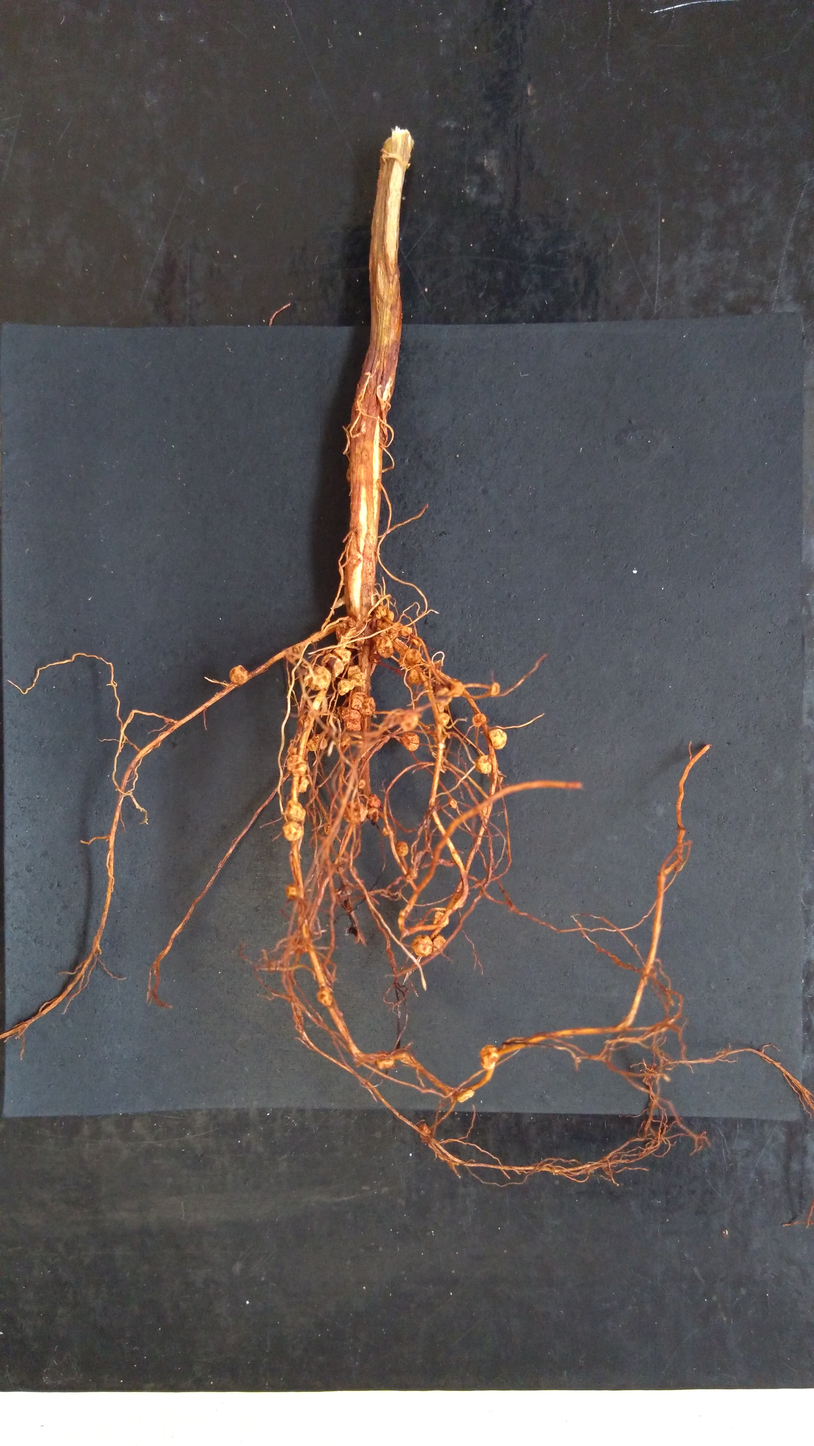nodule: (304, 662, 332, 693), (334, 622, 367, 647), (334, 705, 362, 733), (319, 652, 345, 678), (478, 1042, 499, 1072), (342, 800, 368, 824), (228, 663, 251, 687), (285, 754, 309, 777), (410, 934, 433, 958), (284, 797, 306, 822), (281, 821, 306, 843), (375, 634, 395, 661), (488, 727, 508, 752), (473, 754, 493, 777), (433, 685, 454, 706), (315, 986, 336, 1007), (401, 730, 421, 752), (304, 735, 329, 752), (333, 646, 352, 666), (358, 696, 376, 716), (401, 712, 419, 731), (350, 691, 368, 710), (432, 933, 449, 953), (432, 910, 450, 928), (284, 881, 301, 900), (456, 1088, 476, 1104), (336, 678, 352, 697), (450, 680, 466, 699), (375, 1057, 395, 1071), (471, 712, 488, 728), (405, 648, 422, 664), (396, 840, 410, 859), (350, 672, 366, 688), (367, 793, 382, 809), (407, 670, 421, 686), (347, 664, 363, 678), (339, 735, 353, 750), (366, 808, 379, 824), (436, 712, 449, 728), (297, 779, 310, 794), (419, 1121, 432, 1136), (489, 681, 501, 697), (400, 624, 414, 637), (374, 606, 388, 619), (342, 616, 356, 629), (381, 823, 395, 836), (446, 796, 458, 811), (388, 609, 396, 622), (435, 703, 445, 713), (358, 778, 366, 790), (397, 656, 405, 666)
